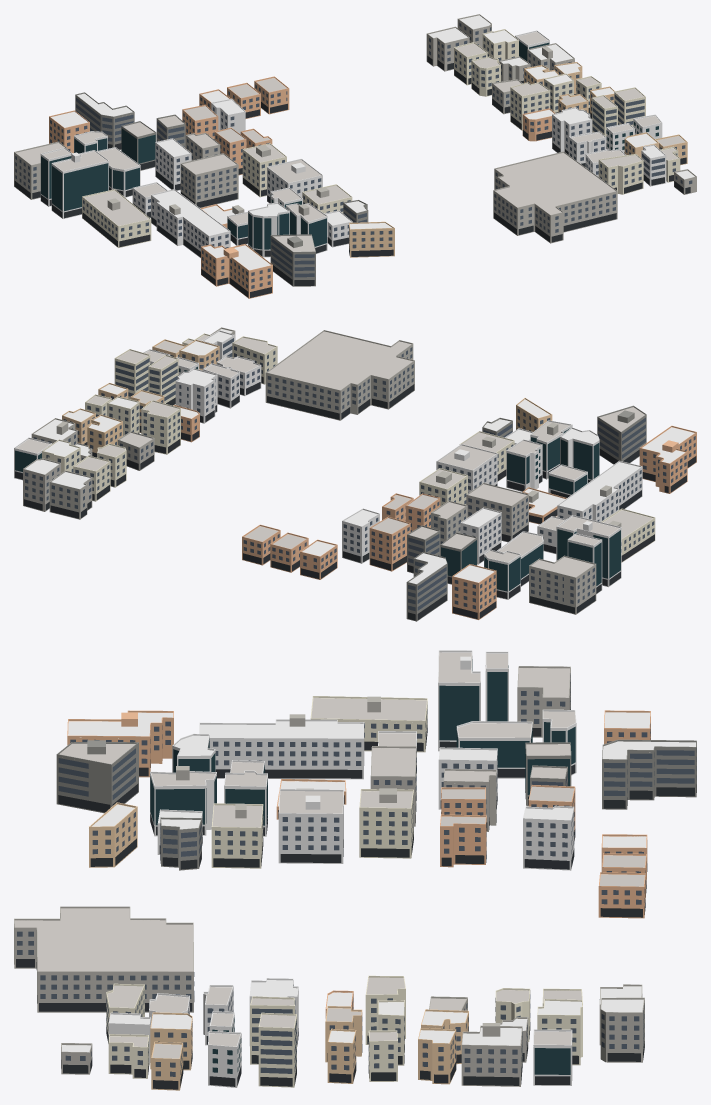
3 views of the same model, one above another, from view 1: azimuth 30°, elevation 25°; view 2: azimuth 150°, elevation 25°; view 3: azimuth 270°, elevation 25° (orthographic). The views are drawn at different scales.
Visible parts, largest first — view 1: a2_n; view 2: a2_n; view 3: a2_n.
Boxes of the visible parts, x1=… form: a2_n: x1=14, y1=14, x2=696, y2=298; a2_n: x1=14, y1=327, x2=696, y2=621; a2_n: x1=14, y1=650, x2=696, y2=1090.
Size of the model in its own units: 260 by 24.6 by 200.
